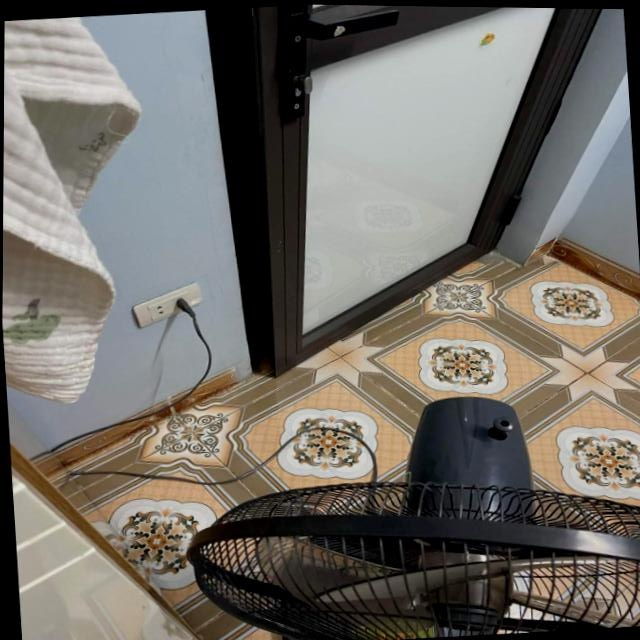outlet: (129, 282, 203, 332)
